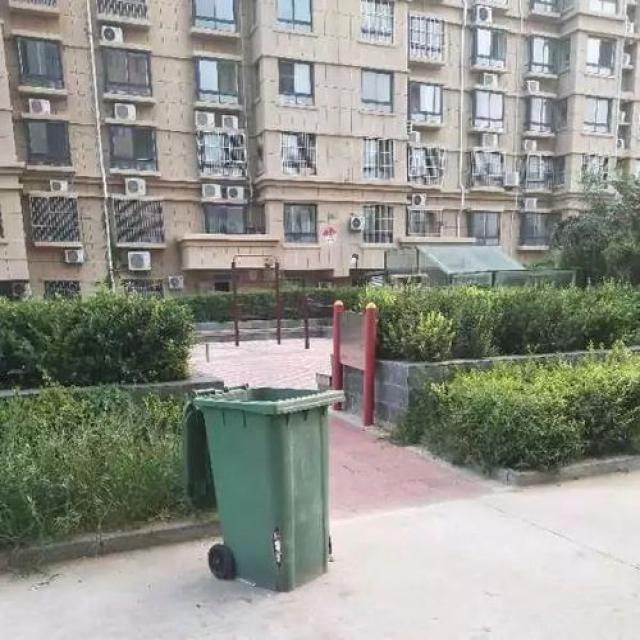garbage_bin: (179, 381, 343, 591)
